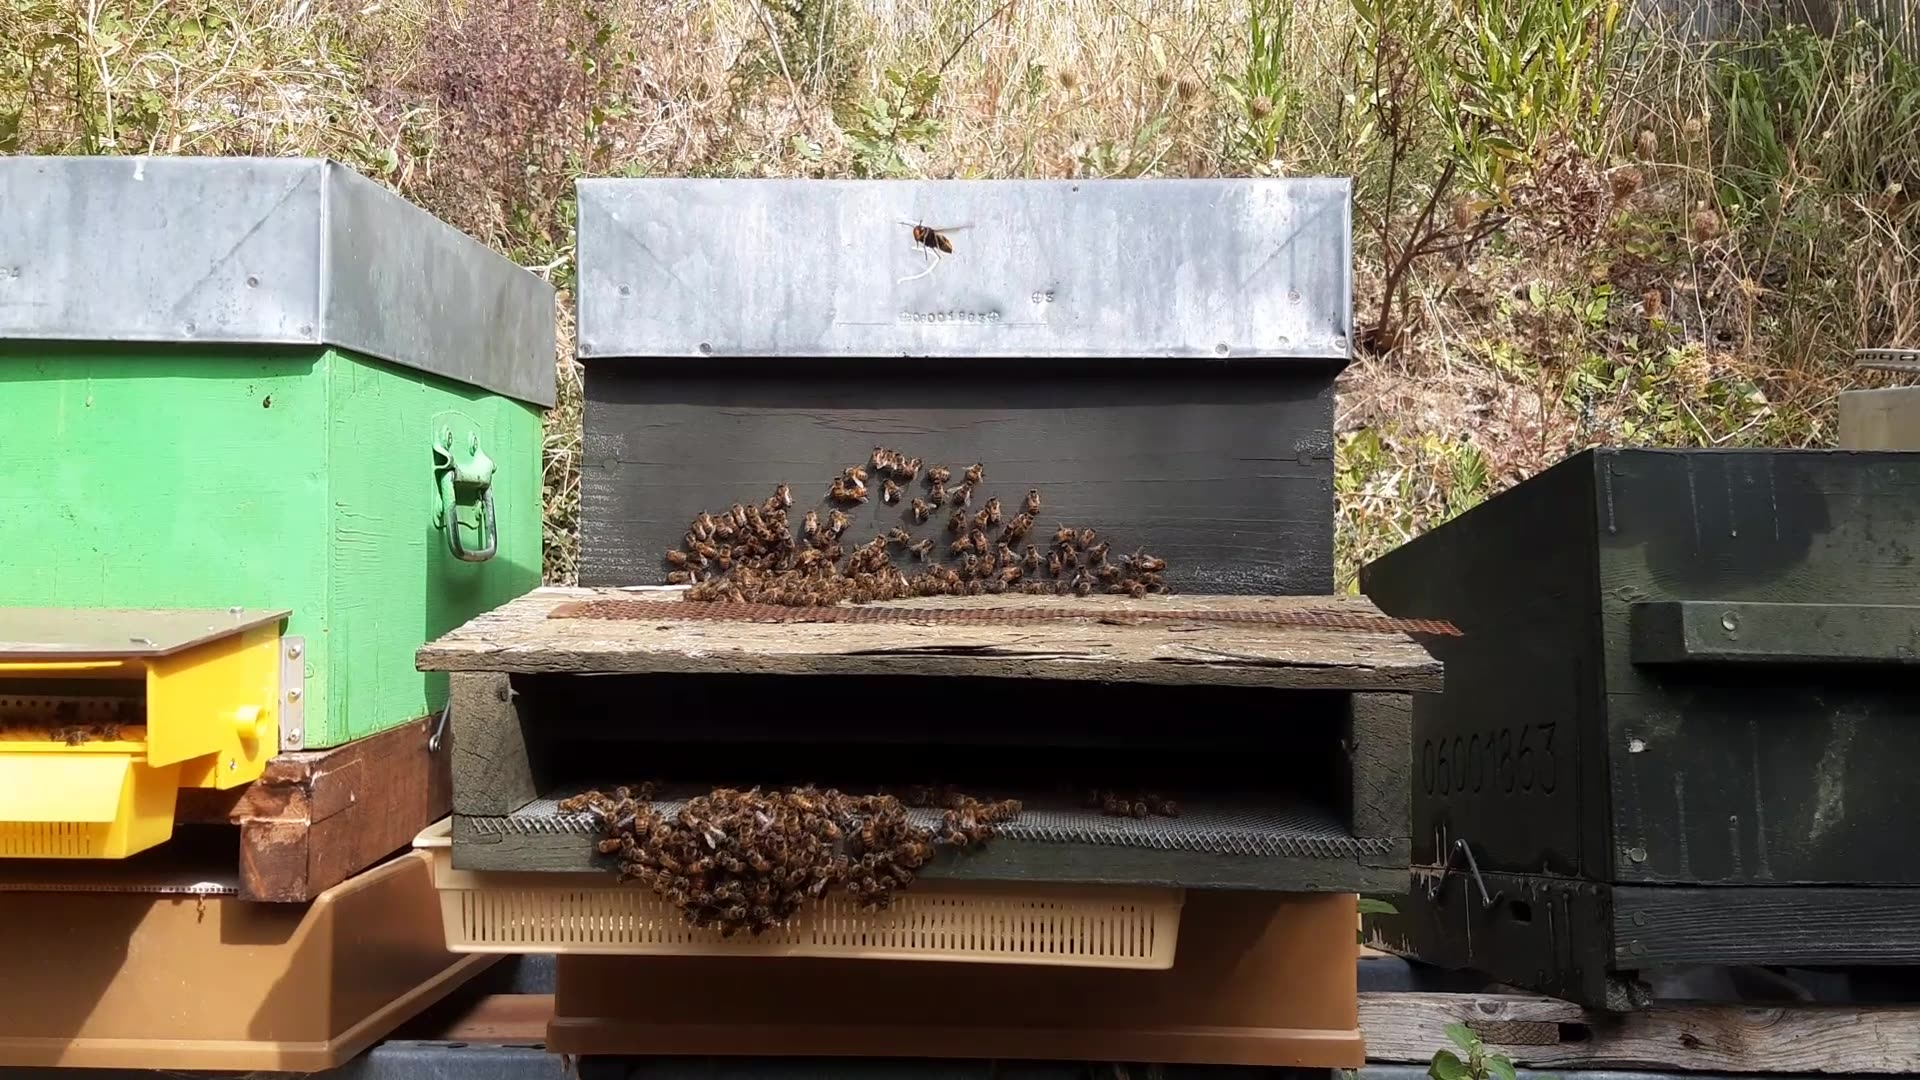bee: (916, 794, 1023, 855), (827, 876, 909, 945), (580, 787, 673, 847), (644, 870, 717, 939), (690, 779, 790, 829), (934, 527, 1000, 592), (737, 520, 807, 575), (568, 796, 634, 855), (1353, 318, 1408, 384), (1031, 529, 1106, 575), (861, 465, 930, 510), (947, 479, 1007, 520), (778, 491, 837, 527)
